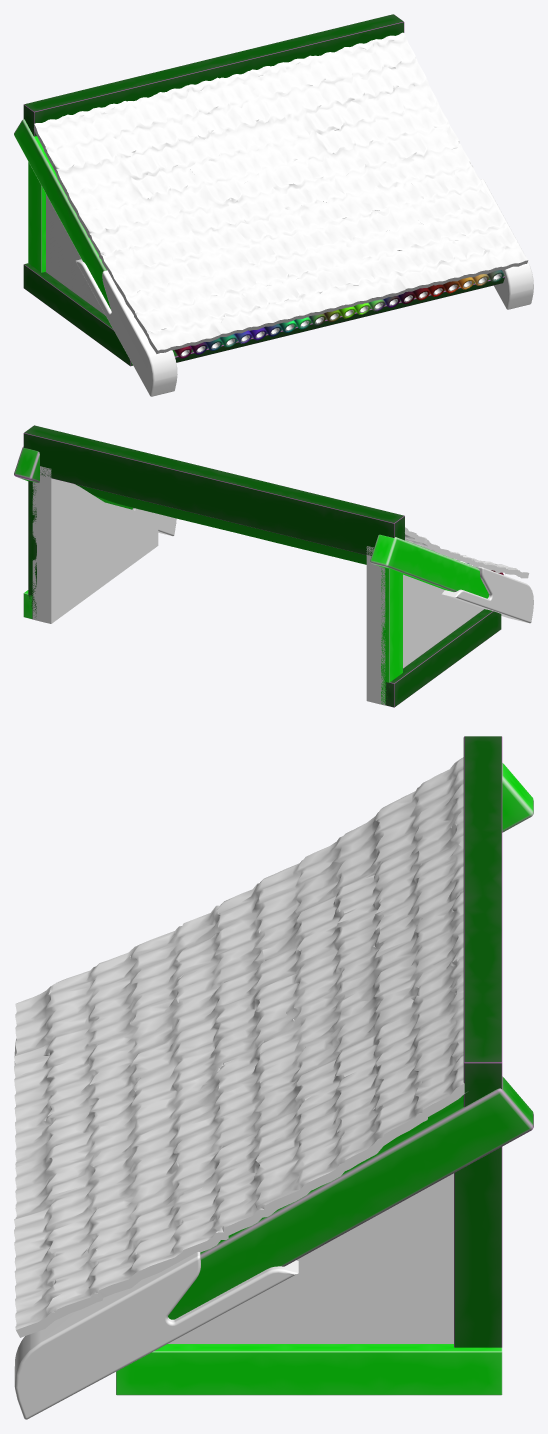
The model's file is roof_standalone_400x200_01.fbx.
3 renders of one model, top to bottom at view 1: azimuth 30°, elevation 25°; view 2: azimuth 150°, elevation 25°; view 3: azimuth 270°, elevation 25°, orthographic. The views are drawn at different scales.
Parts seen in each view (by area): view 1: roof_standalone_400x200_01; view 2: roof_standalone_400x200_01; view 3: roof_standalone_400x200_01.
Part boxes in pixels (x1,y1,x2,y2): roof_standalone_400x200_01: (14, 14, 533, 396); roof_standalone_400x200_01: (14, 425, 533, 707); roof_standalone_400x200_01: (14, 736, 533, 1419).
Size of the model in its own units: 4.12 by 2.01 by 2.69.
